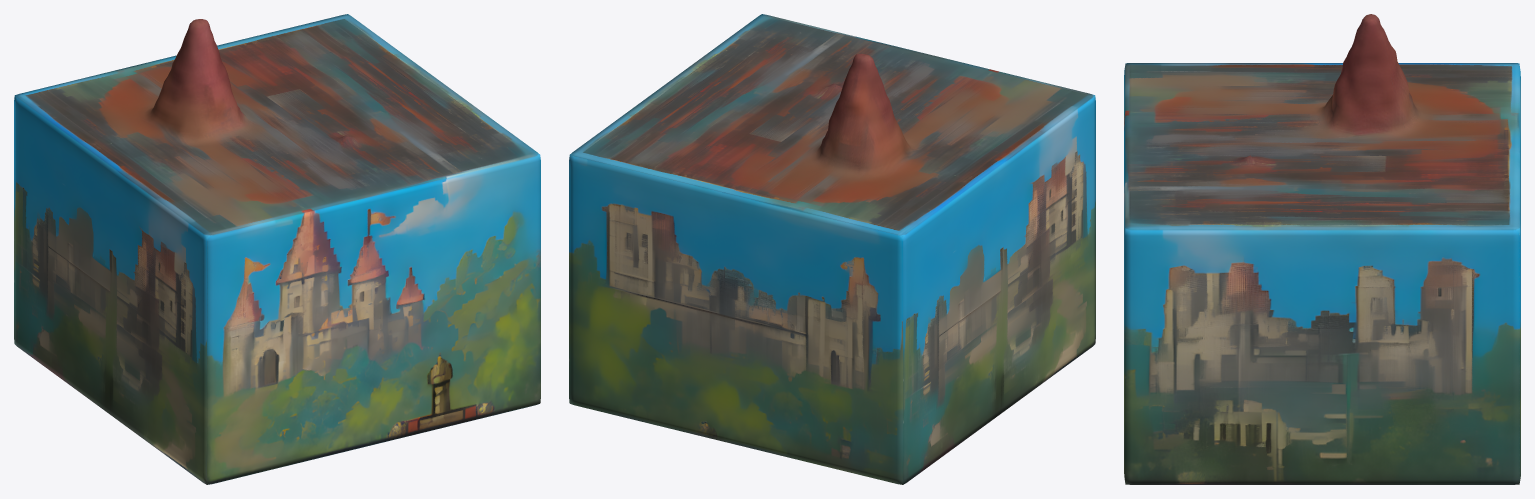
Rendered from castle-landmark.glb.
The picture shows the model from 3 angles, left to right: view 1: azimuth 30°, elevation 25°; view 2: azimuth 150°, elevation 25°; view 3: azimuth 270°, elevation 25°; orthographic projection. The views are drawn at different scales.
Parts seen in each view (by area): view 1: model; view 2: model; view 3: model.
Part boxes in pixels (x1=…): model: x1=14, y1=14, x2=540, y2=484; model: x1=569, y1=14, x2=1095, y2=484; model: x1=1124, y1=14, x2=1520, y2=484.
Size of the model in its own units: 1.9 by 1.9 by 1.9.
1 material, 1 textured.
